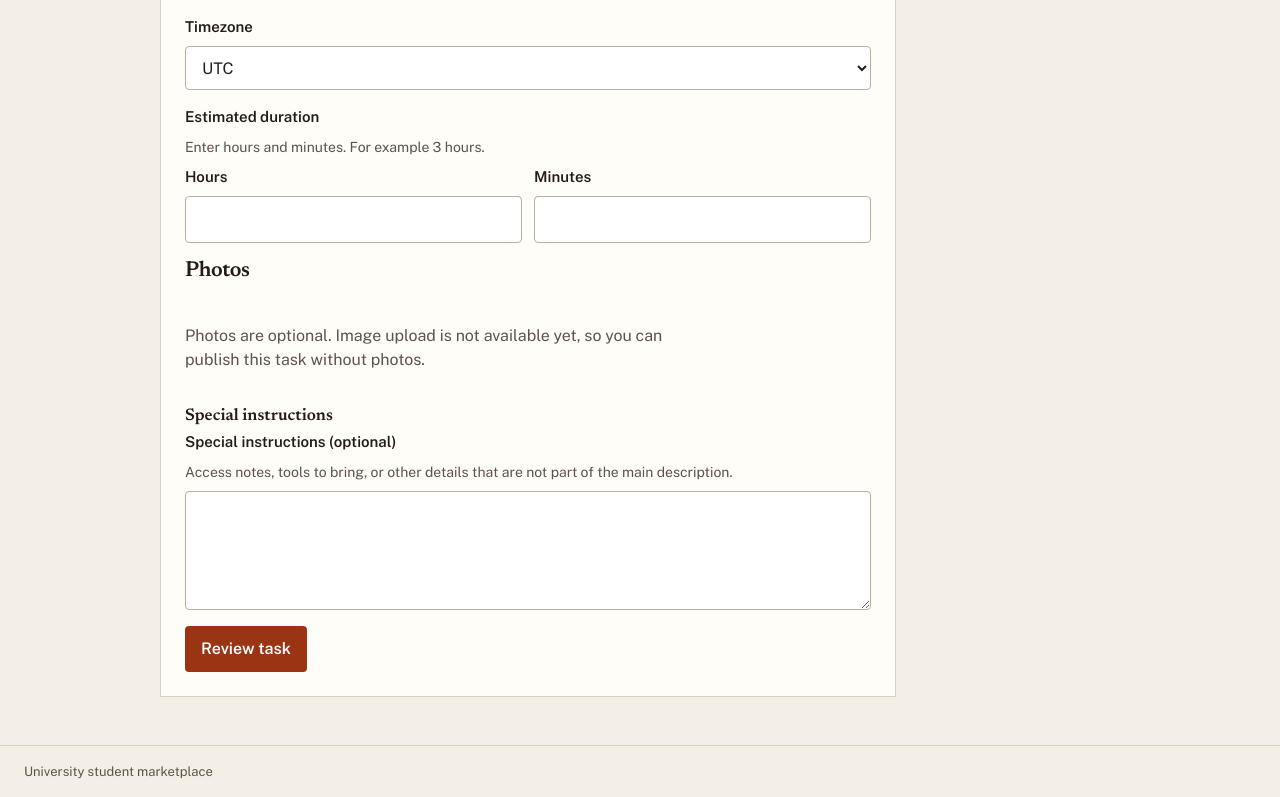
it: Create task page › does not submit an empty form
(page scrolled)
What coordinates should you click on to do the following:
click the button "Review task"
I would click on:
 (246, 649)
Its box is [185, 626, 307, 672].
(page scrolled)
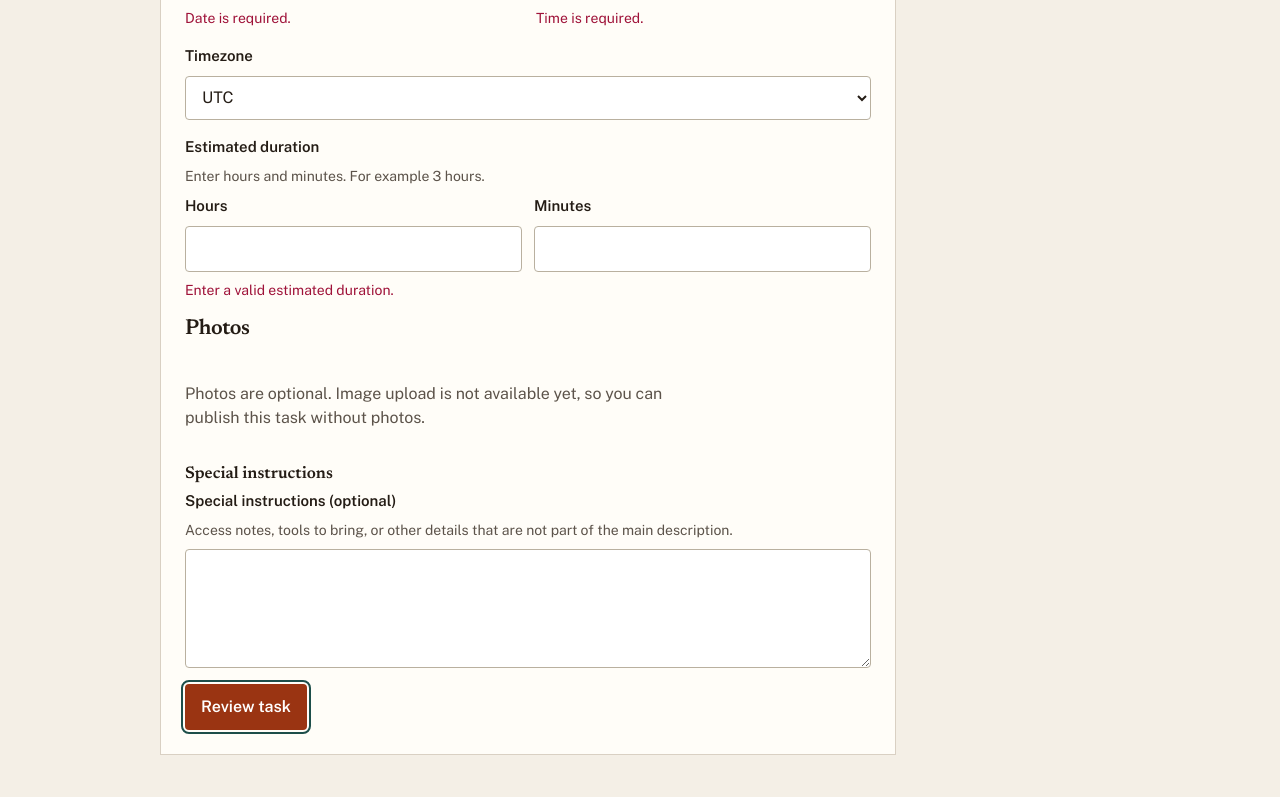
Expected: the text "Date is required." is shown, [185, 10, 291, 26]
Expected: the text "Time is required." is shown, [536, 10, 643, 26]
Expected: the text "Enter a valid estimated duration." is shown, [185, 282, 394, 298]
